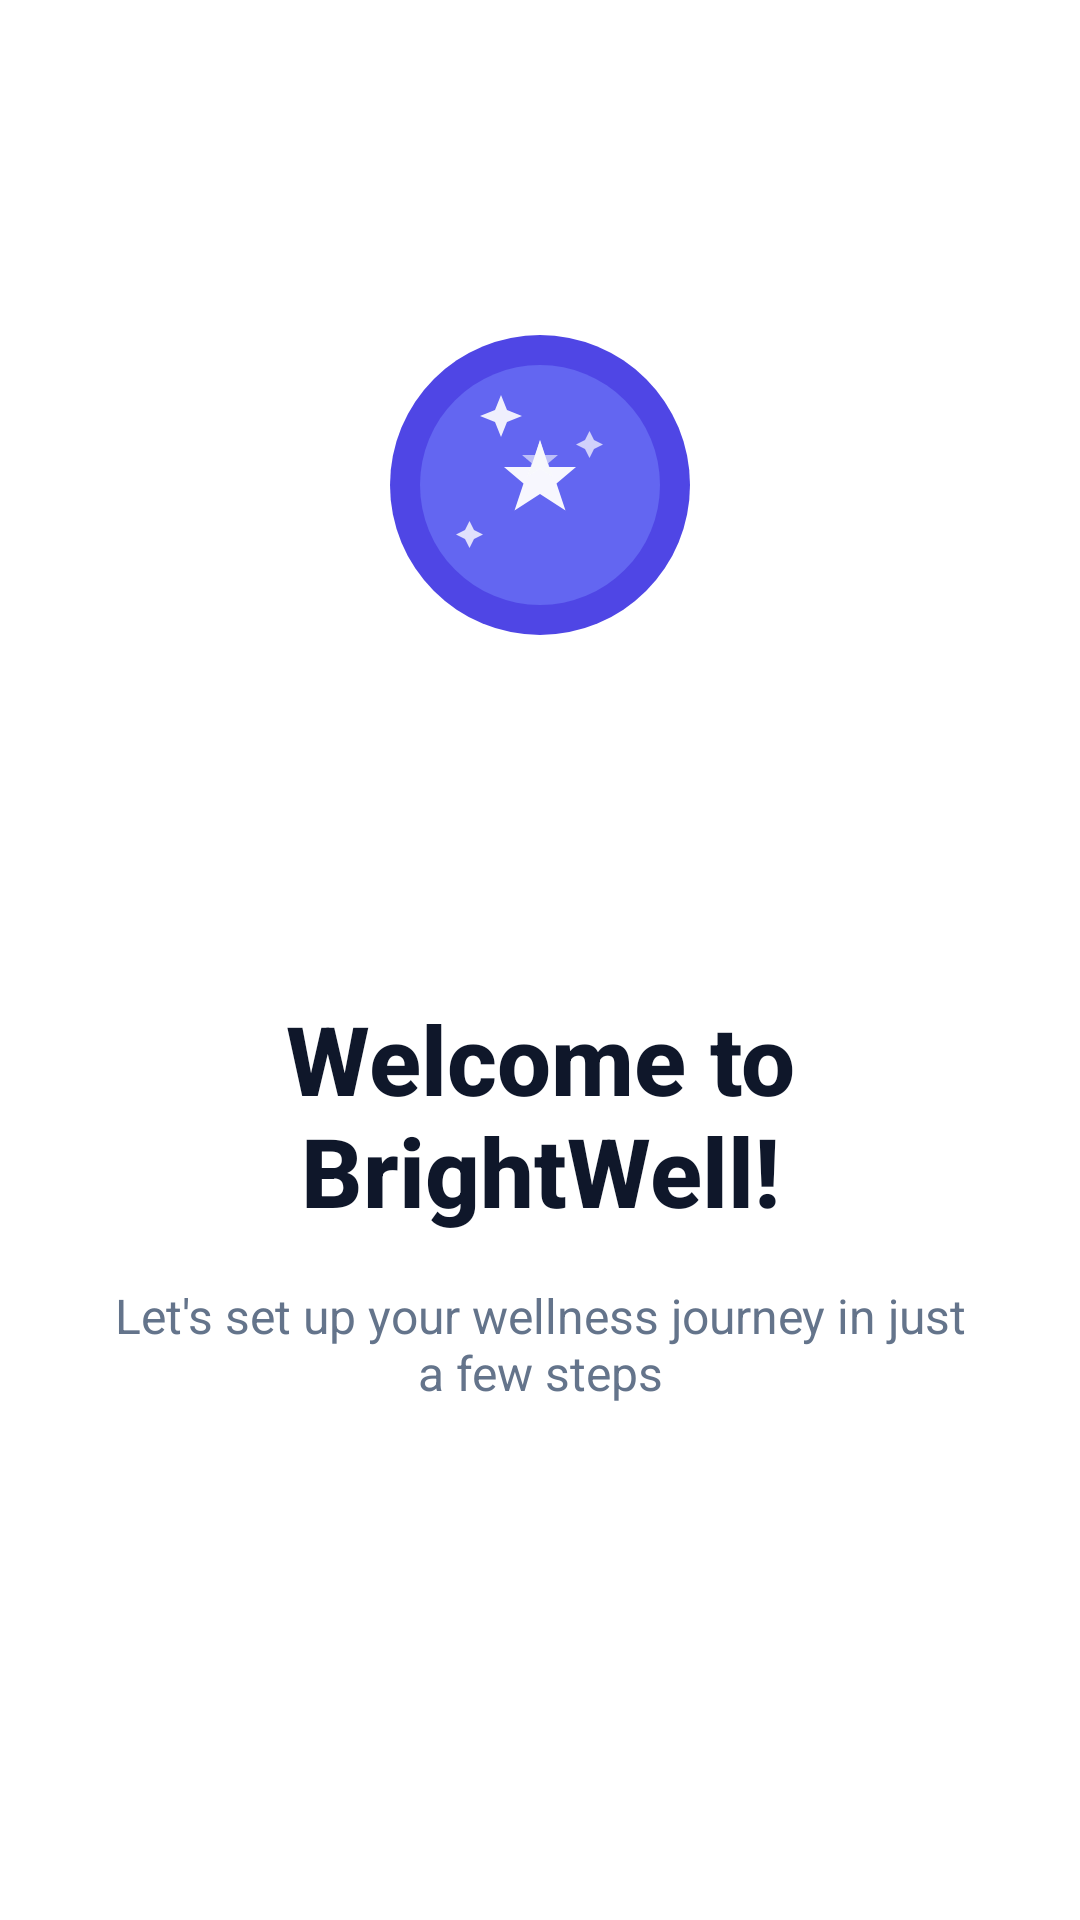

Icons on this 1080 x 1920 Android screen, each with the point to tap as point (x, y):
Welcome illustration: point (540, 485)
